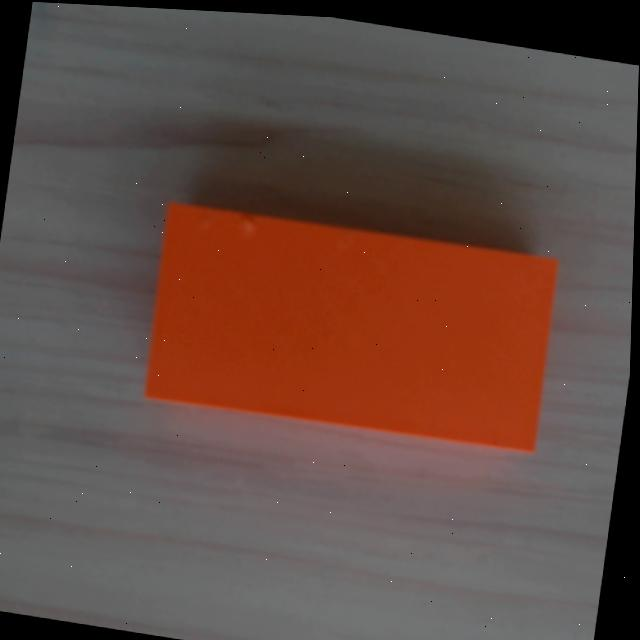Balok-Jingga-1005025: (140, 202, 561, 454)
